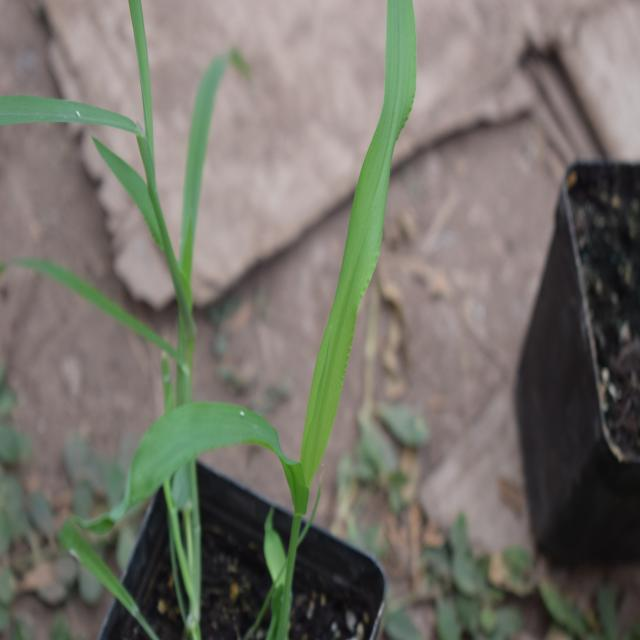crabgrass: (122, 18, 417, 554)
